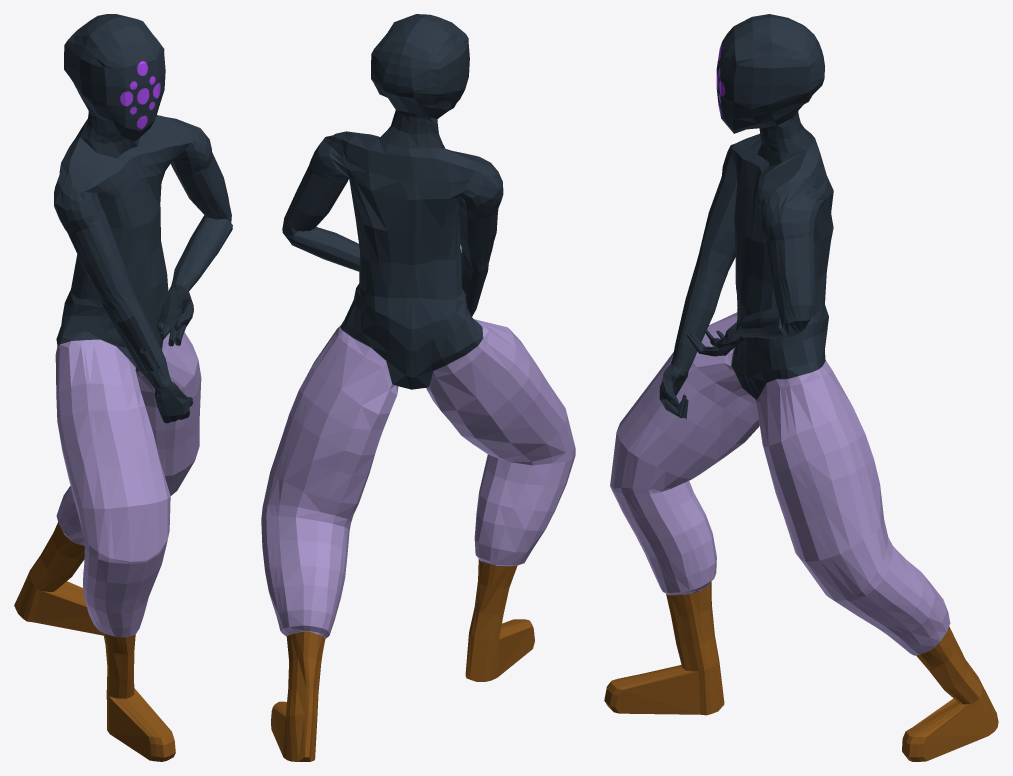
The model's file is Oracle_WB_000014.obj.
3 renders of one model, left to right at view 1: azimuth 30°, elevation 25°; view 2: azimuth 150°, elevation 25°; view 3: azimuth 270°, elevation 25°, orthographic. The views are drawn at different scales.
Parts seen in each view (by area): view 1: Cube; view 2: Cube; view 3: Cube.
Part boxes in pixels (x1,y1,x2,y2): Cube: [14, 14, 232, 761]; Cube: [261, 14, 575, 761]; Cube: [604, 14, 998, 761].
Bounding box in the file's own units: 1.21 × 3.65 × 1.85.
